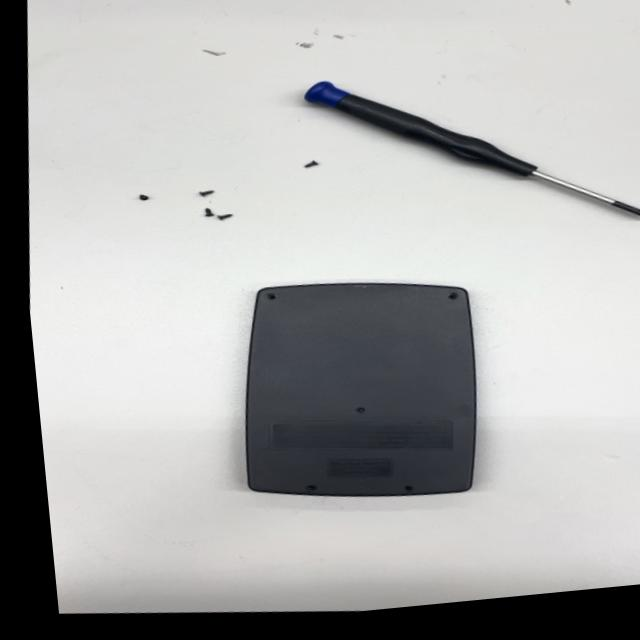back_cover: (212, 257, 509, 525)
screw: (212, 207, 241, 224), (305, 152, 333, 169), (194, 203, 219, 219), (132, 189, 156, 205), (197, 183, 218, 198)
screw_driver: (292, 42, 640, 251)
